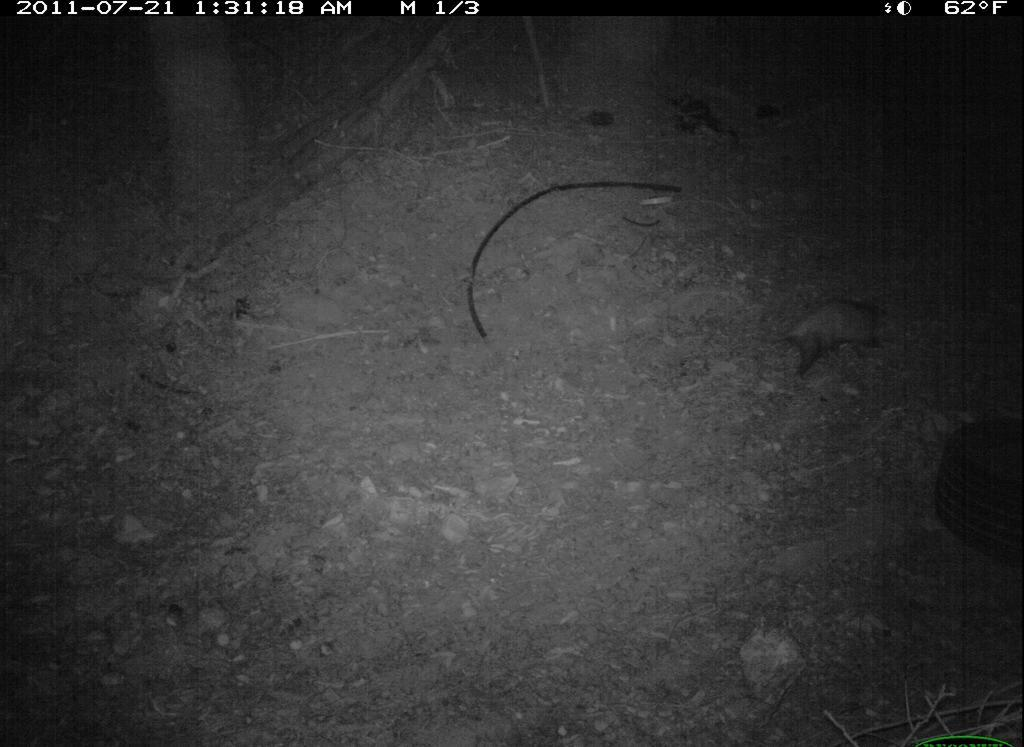opossum: (770, 286, 908, 379)
